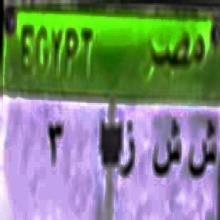3: (46, 115, 66, 172)
sheen: (188, 118, 217, 190), (152, 119, 182, 187)
zay: (118, 122, 137, 186)
